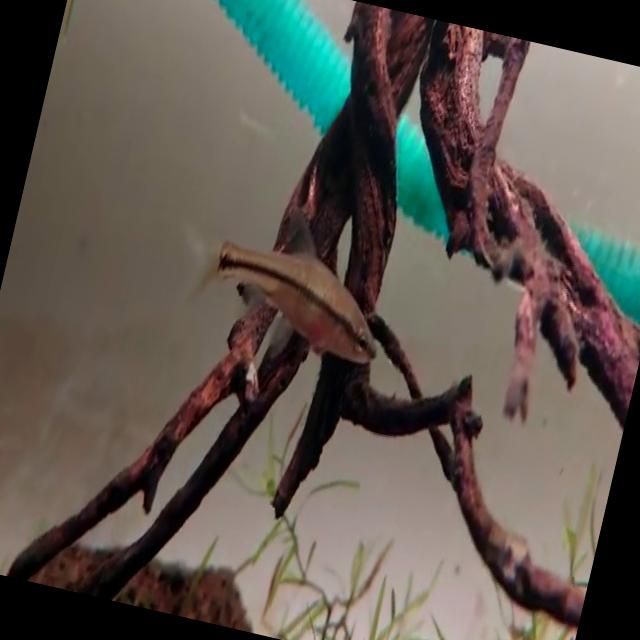Cakil Baligi: (168, 190, 404, 368)
